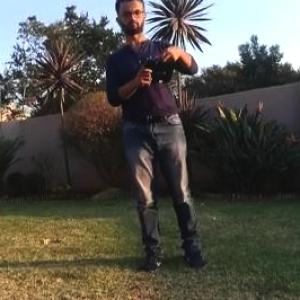follow: (100, 0, 215, 283)
